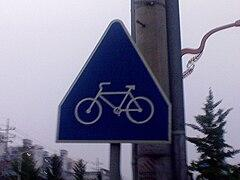Cycle Crossing: (47, 18, 179, 149)
